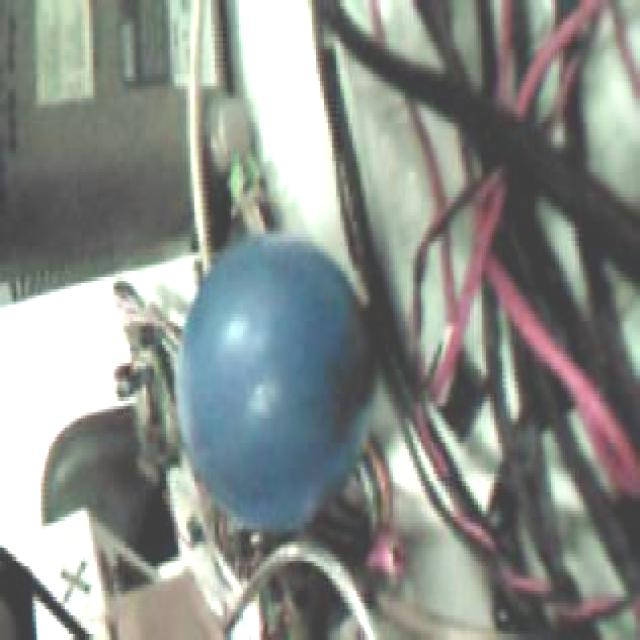BallPurple: (176, 236, 374, 534)
